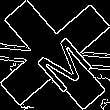M_NW: (21, 21, 89, 89)
